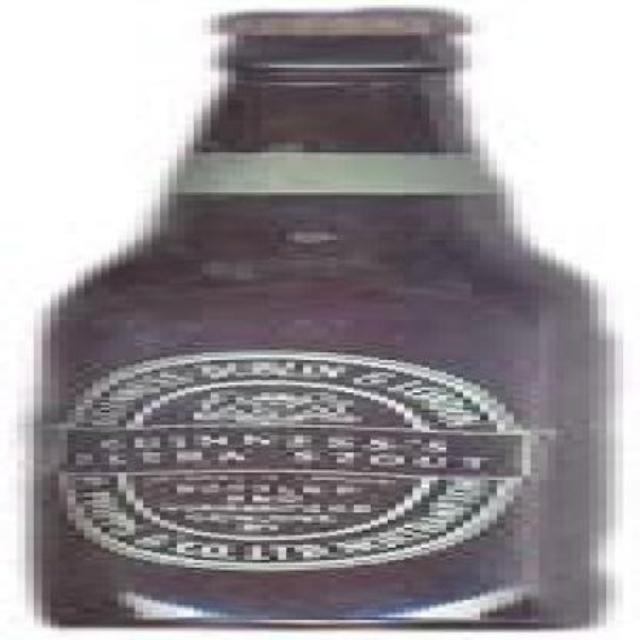trash: (34, 9, 611, 626)
